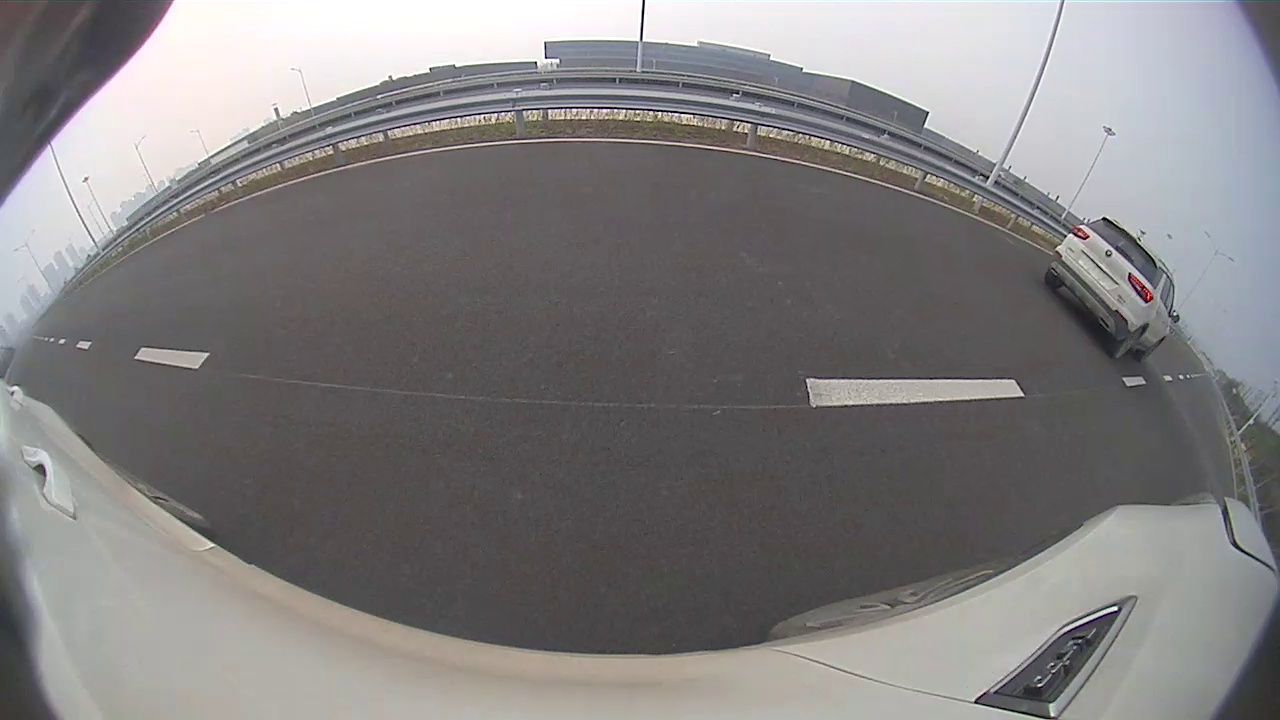car: (1045, 216, 1180, 361)
rear: (1117, 328, 1148, 358)
